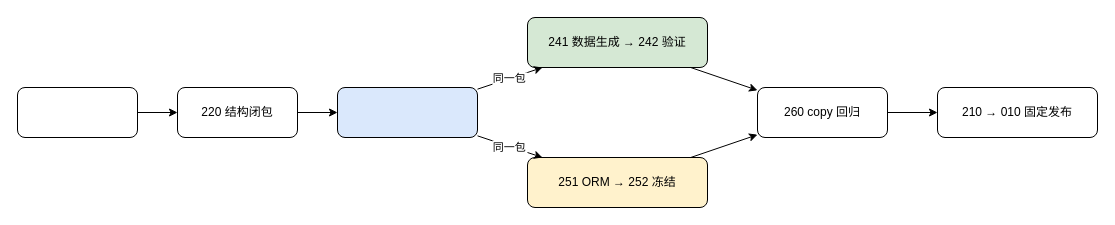
Some shapes in this 1115 by 225 pixel diagram are drawn without their labels. Here are the shapes that lost their labels. From the top down, the centre of each, then its label:
the point at 77,112: 210 会审/装配
the point at 407,112: 230 唯一操作闭包
